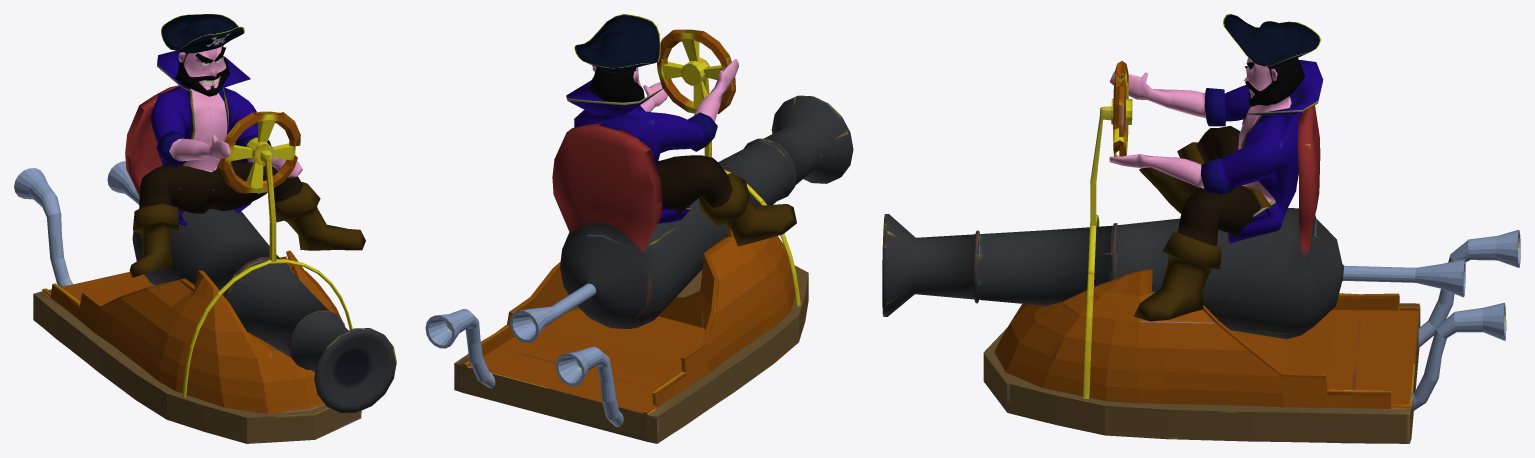
The model's file is pirataGiroDER_000546.obj.
3 renders of one model, left to right at view 1: azimuth 30°, elevation 25°; view 2: azimuth 150°, elevation 25°; view 3: azimuth 270°, elevation 25°, orthographic. The views are drawn at different scales.
Visible parts, largest first — view 1: carro_pirata, Pirata_PirataH; view 2: carro_pirata, Pirata_PirataH; view 3: carro_pirata, Pirata_PirataH.
Part boxes in pixels (x1,y1,x2,y2): carro_pirata: (14,85,396,443); Pirata_PirataH: (129,14,365,277); carro_pirata: (425,29,853,443); Pirata_PirataH: (566,14,796,246); carro_pirata: (882,61,1520,443); Pirata_PirataH: (1109,14,1323,321).
Size of the model in its own units: 5.71 by 7.69 by 12.1.
2 materials, 2 textured.
